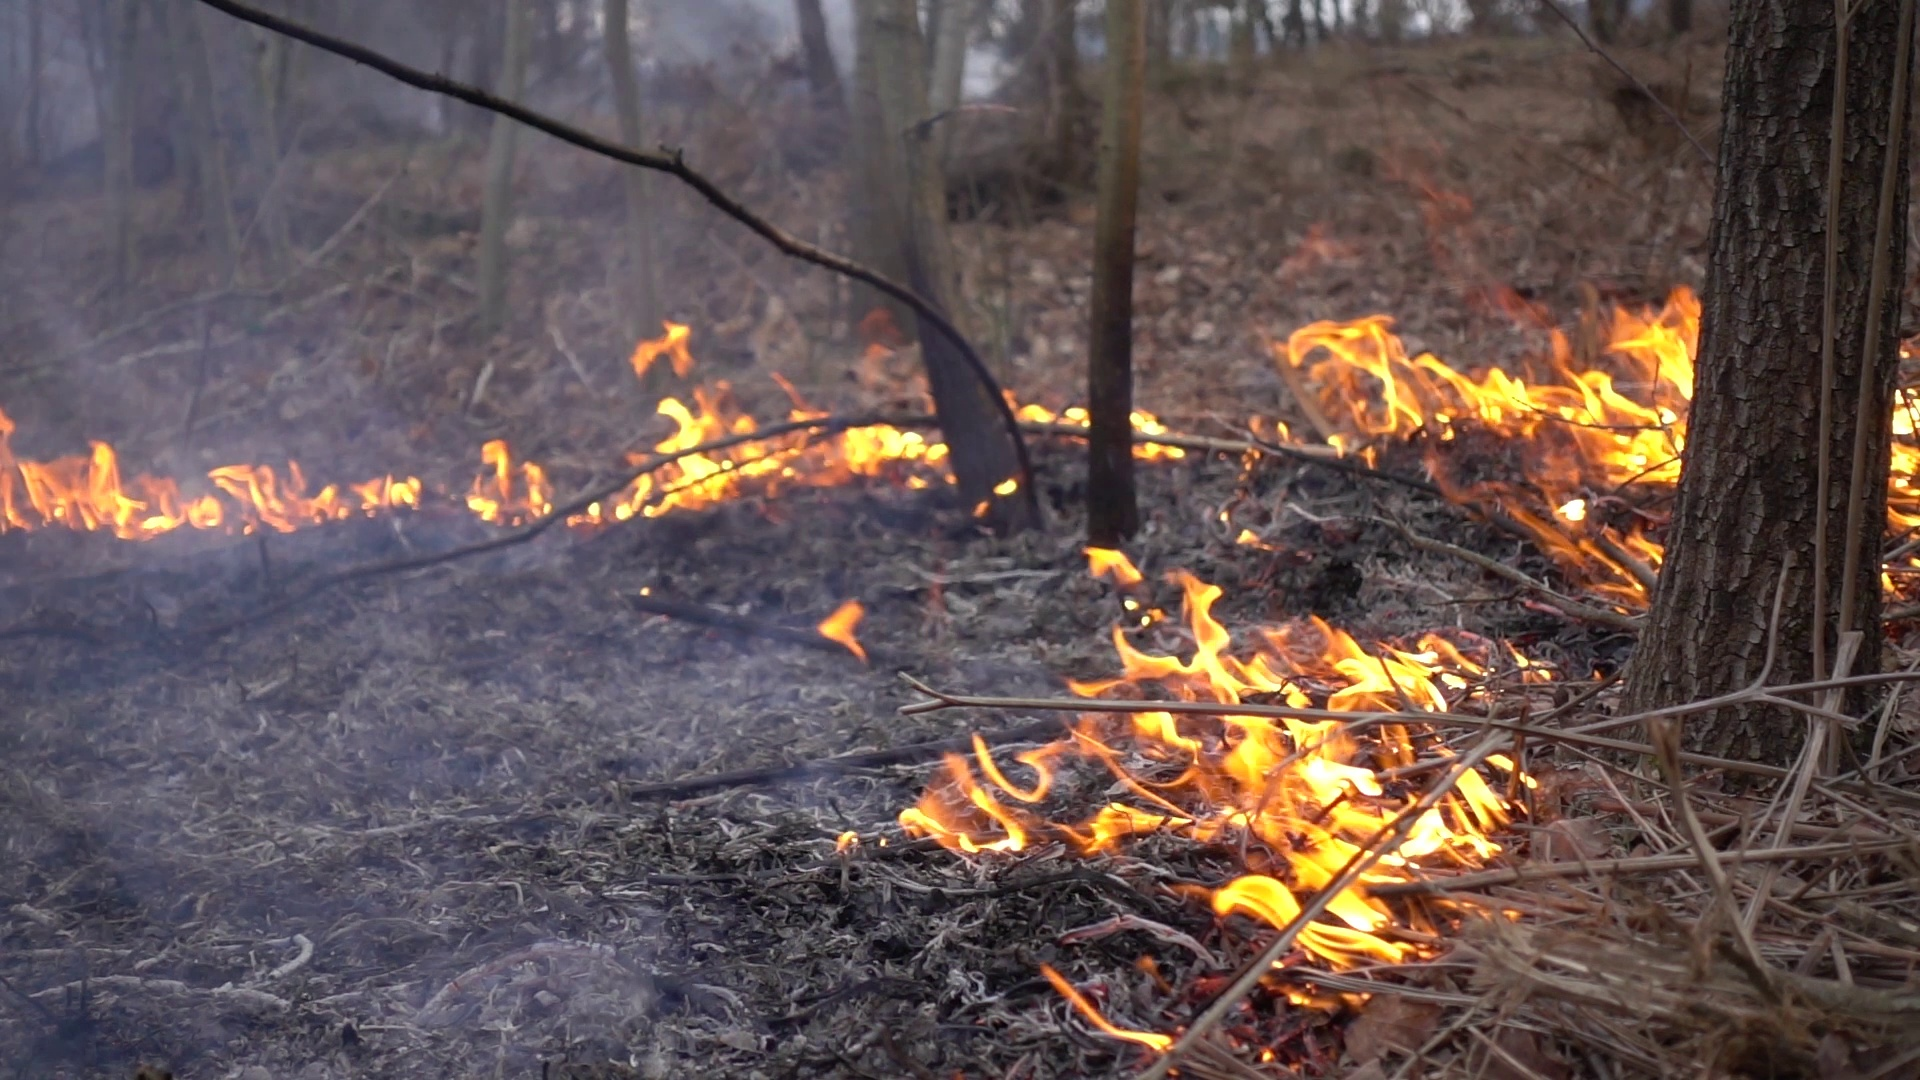fire: (906, 559, 1544, 985), (1291, 305, 1702, 580), (615, 322, 944, 516), (7, 448, 429, 535), (464, 439, 554, 531), (1894, 393, 1920, 535), (1127, 406, 1167, 459)
